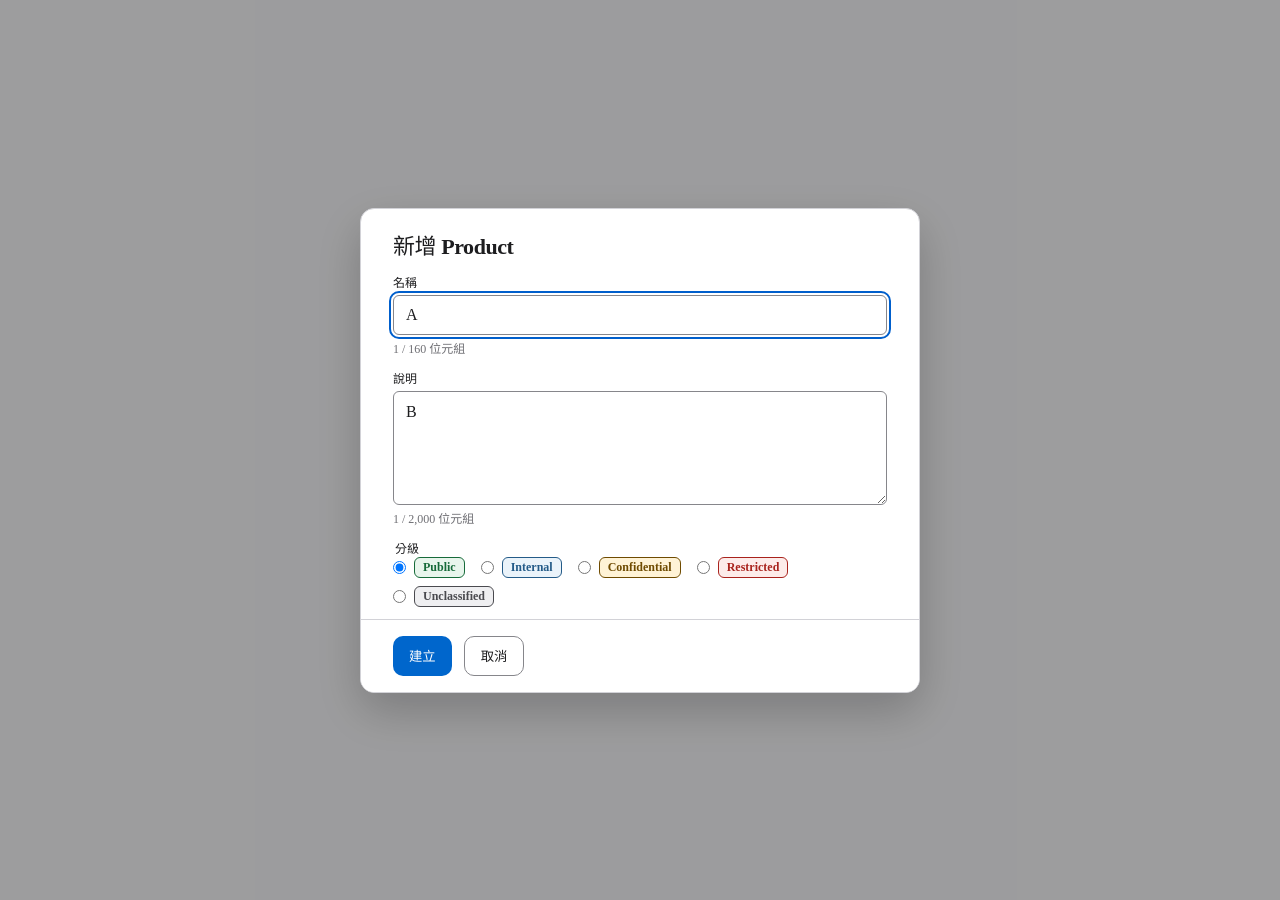
Test: RecordSheet › shows a refusal with its correlation id and keeps the sheet open
Click the button "建立" at [422, 656], box [393, 636, 452, 676]
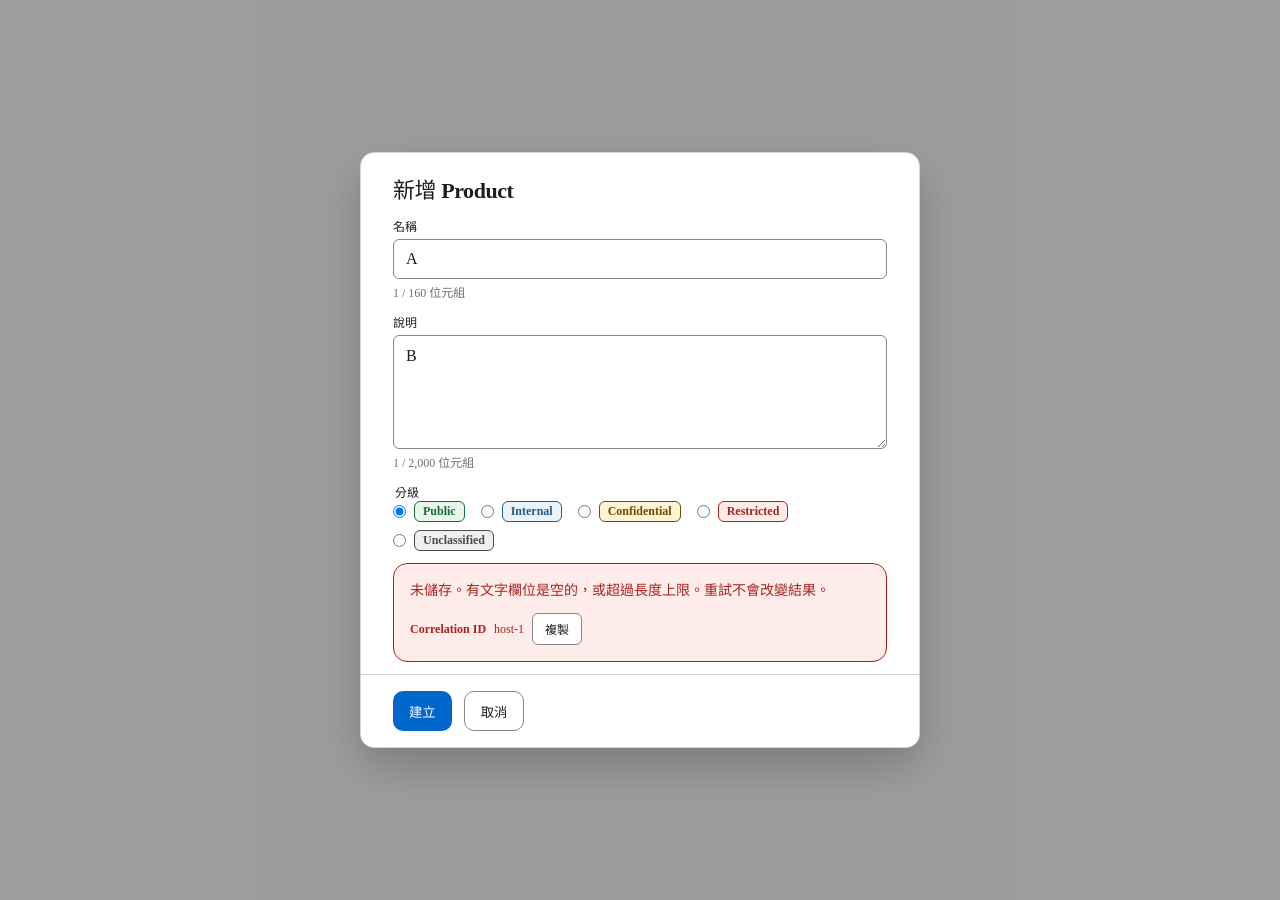
Expected: the button "建立" is enabled, [393, 691, 452, 731]
Now the text "未儲存。有文字欄位是空的，或超過長度上限。重試不會改變結果。" is shown, box [410, 583, 830, 598]
Now the text "host-1" is shown, box [494, 622, 524, 636]
